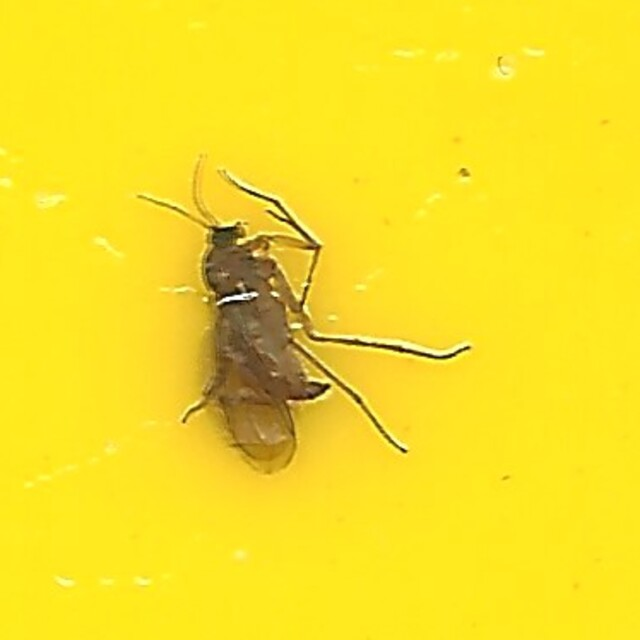Nematocera: (171, 167, 469, 473)
